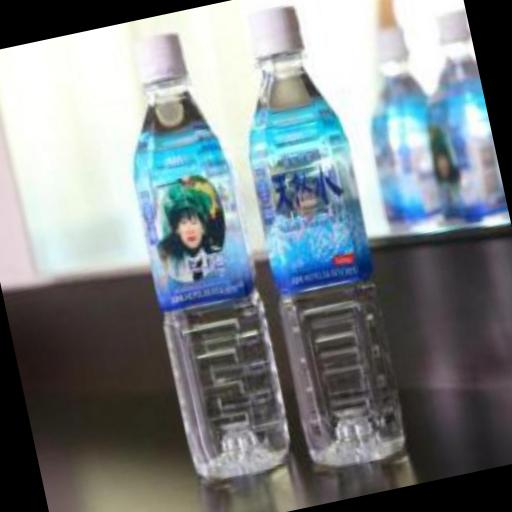Coca: (201, 0, 427, 487), (92, 12, 304, 494)
